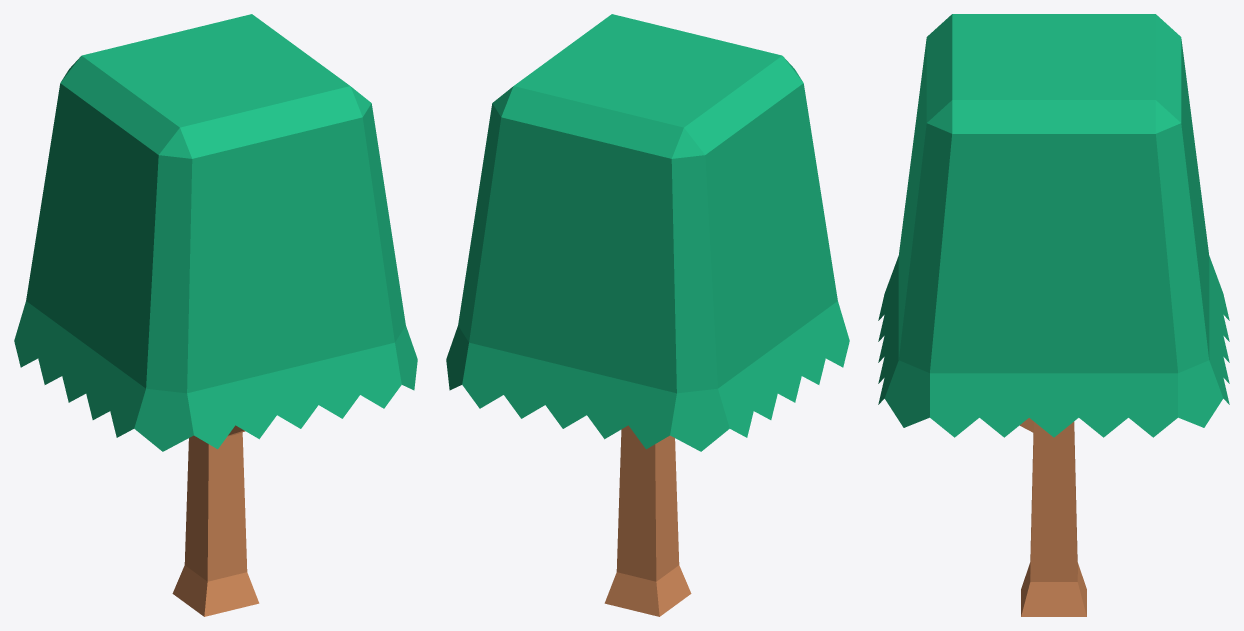
Rendered from tree.dae.
3 views of the same model, side by side, from view 1: azimuth 30°, elevation 25°; view 2: azimuth 150°, elevation 25°; view 3: azimuth 270°, elevation 25° (orthographic). The views are drawn at different scales.
Parts seen in each view (by area): view 1: tree; view 2: tree; view 3: tree.
Part boxes in pixels (x1,y1,x2,y2): tree: (14,14,417,616); tree: (446,14,849,616); tree: (878,14,1229,616).
Size of the model in its own units: 1.13 by 1.94 by 1.13.
